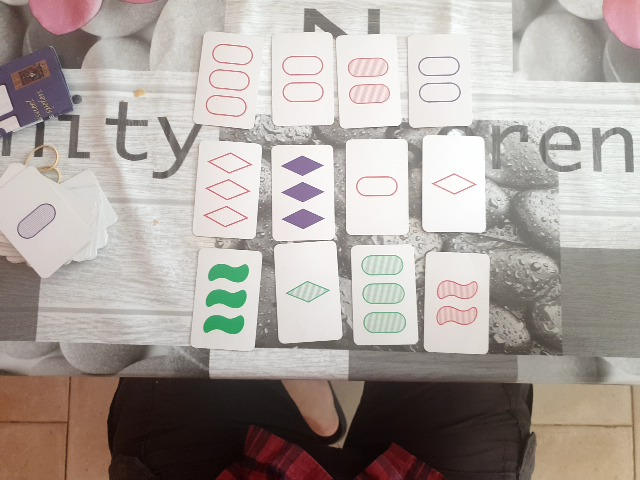1ED: (426, 138, 482, 229)
1EP: (349, 141, 406, 231)
1HD: (281, 244, 334, 338)
2EP: (411, 36, 467, 122), (274, 37, 332, 120)
2HP: (342, 38, 395, 122)
2HW: (429, 256, 486, 349)
3ED: (201, 145, 253, 233)
3EP: (205, 37, 254, 120)
3FD: (274, 148, 331, 235)
3FW: (200, 252, 252, 345)
3HP: (357, 247, 411, 342)
